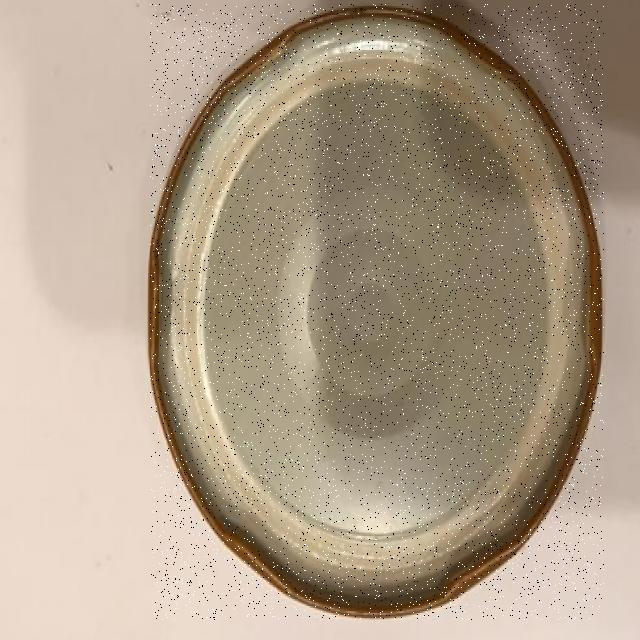metal: (151, 4, 604, 619)
